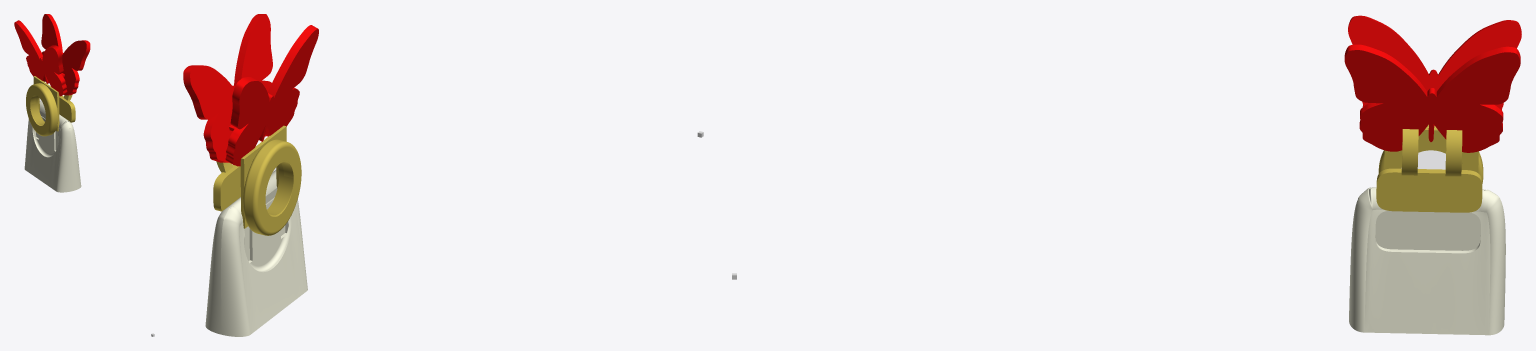
Rendered from 2 animation ass file.glb.
3 renders of one model, left to right at view 1: azimuth 30°, elevation 25°; view 2: azimuth 150°, elevation 25°; view 3: azimuth 270°, elevation 25°, orthographic. The views are drawn at different scales.
Parts seen in each view (by area): view 1: Object_114002, Object_1-mesh, Object_1-mesh_3, Object_1-mesh_2; view 2: Object_114002, Object_1-mesh, Object_1-mesh_3, Object_1-mesh_2; view 3: Object_114002, Object_1-mesh_2, Object_1-mesh, Object_1-mesh_3.
Boxes of the visible parts, bbox=[...] form: Object_114002: bbox=[24, 101, 81, 192]; Object_1-mesh: bbox=[26, 76, 75, 136]; Object_1-mesh_3: bbox=[14, 20, 67, 96]; Object_1-mesh_2: bbox=[41, 14, 90, 95]; Object_114002: bbox=[205, 170, 307, 336]; Object_1-mesh: bbox=[213, 125, 301, 235]; Object_1-mesh_3: bbox=[225, 25, 318, 166]; Object_1-mesh_2: bbox=[183, 14, 272, 162]; Object_114002: bbox=[1349, 187, 1505, 335]; Object_1-mesh_2: bbox=[1344, 44, 1520, 152]; Object_1-mesh: bbox=[1376, 124, 1483, 212]; Object_1-mesh_3: bbox=[1348, 15, 1521, 127].
Size of the model in its own units: 86.03 by 143 by 319.
